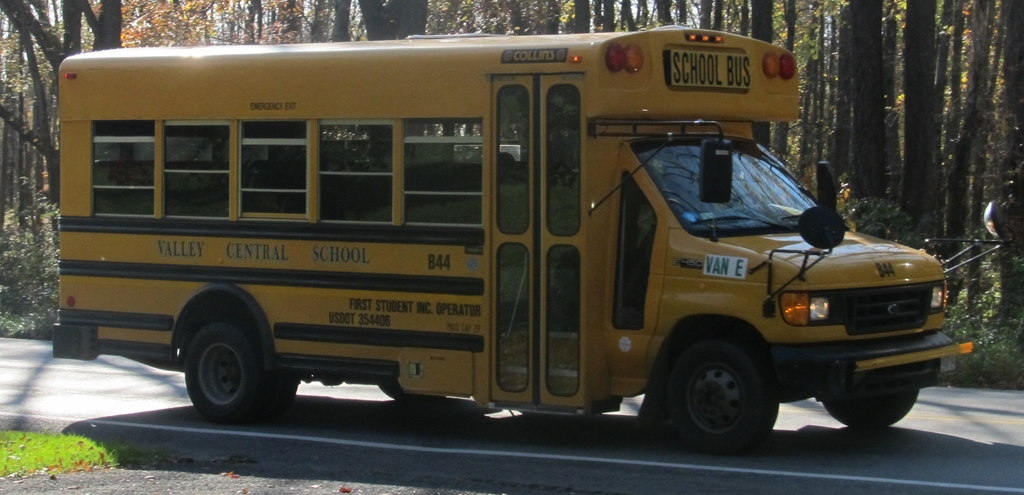Bus: (52, 26, 1007, 458)
